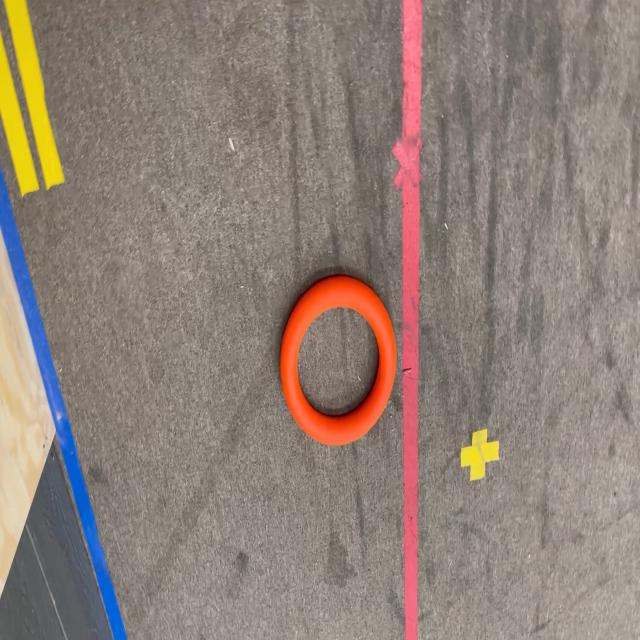note: (278, 276, 396, 448)
